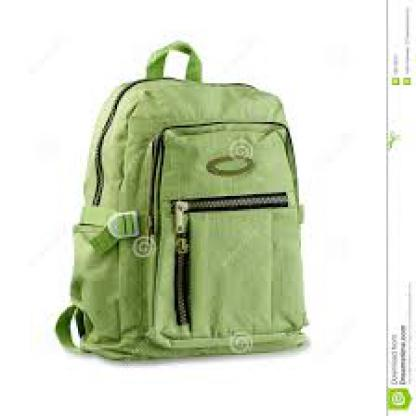morral: (45, 33, 338, 368)
